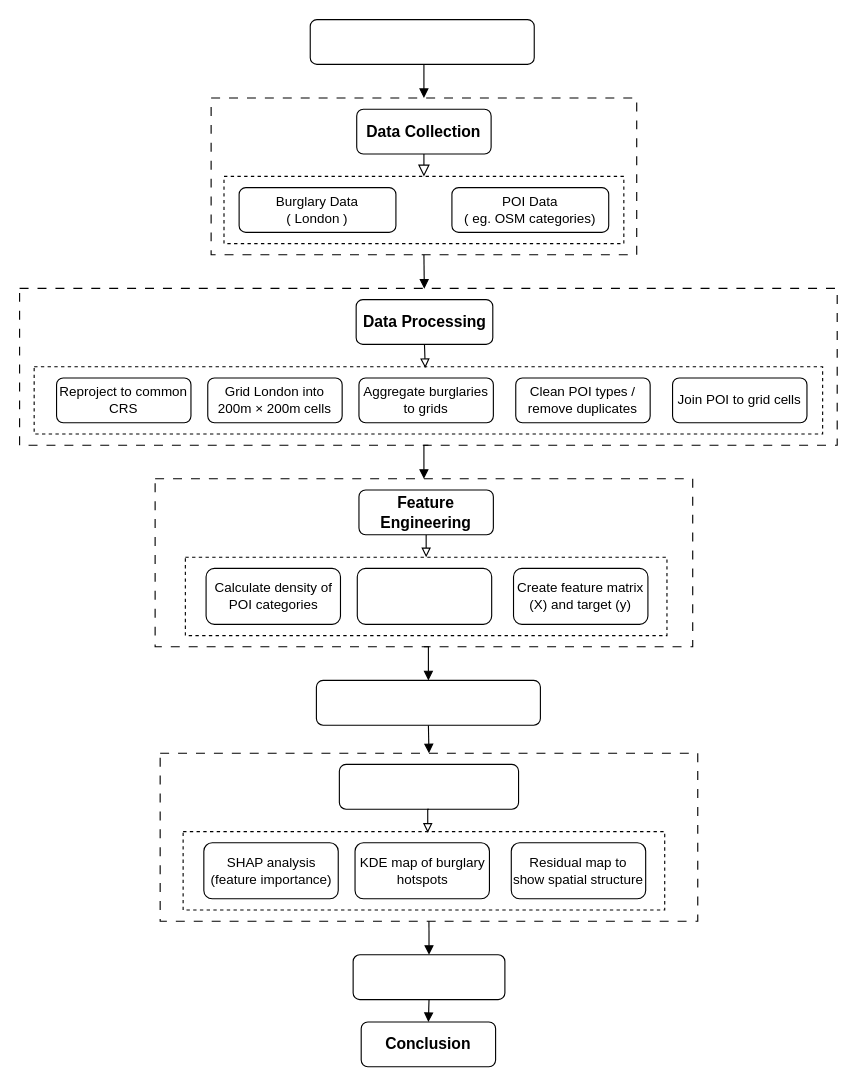
This 857x1086 diagram has some shape labels left out. Each missing label, with the centre of its shape:
"Define Research Question" goes at point 421,41.
"Model Interpretation" goes at point 428,786.
"Results Discussion" goes at point 428,977.
"Train XGBoost regression model" goes at point 427,702.
"Z-score standardisation of all variables" goes at point 424,595.
